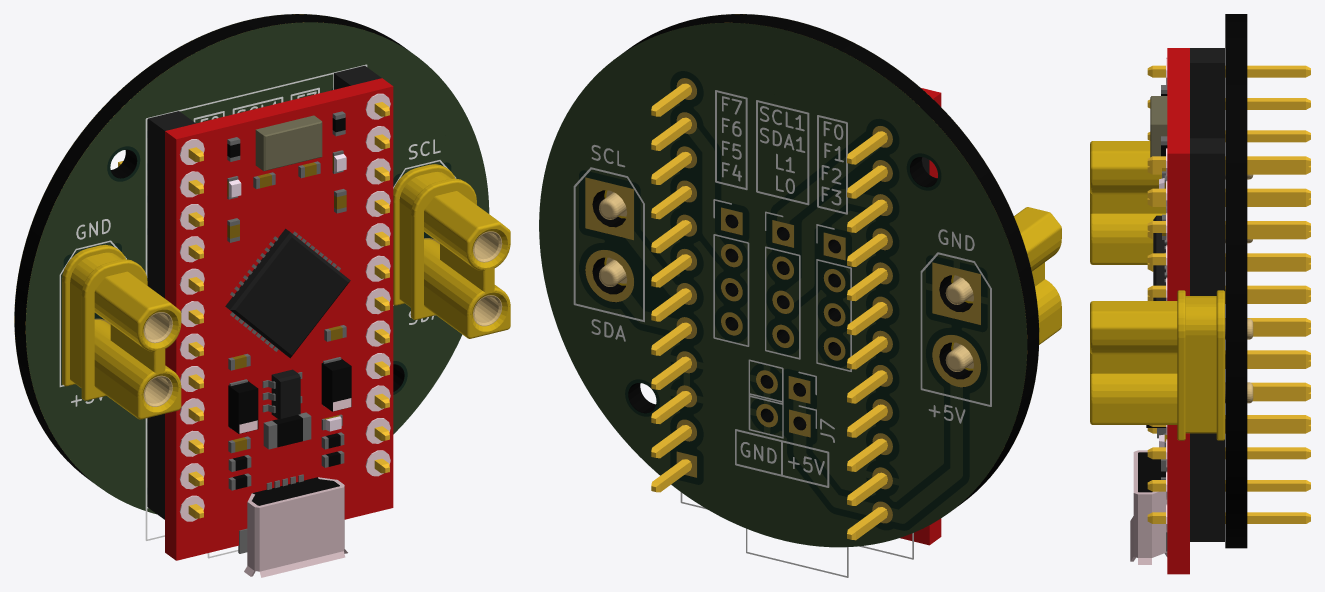
The model's file is Helios_PCB_Section.obj.
The picture shows the model from 3 angles, left to right: view 1: azimuth 30°, elevation 25°; view 2: azimuth 150°, elevation 25°; view 3: azimuth 270°, elevation 25°; orthographic projection. The views are drawn at different scales.
Visible parts, largest first — view 1: SHAPE_117_IndexedFaceSet, SHAPE_296_IndexedFaceSet, SHAPE_295_IndexedFaceSet, SHAPE_292_IndexedFaceSet, SHAPE_88_IndexedFaceSet, SHAPE_119_IndexedFaceSet, SHAPE_123_IndexedFaceSet, SHAPE_298_IndexedFaceSet, SHAPE_121_IndexedFaceSet, SHAPE_184_IndexedFaceSet, SHAPE_184_IndexedFaceSet.001, SHAPE_193_IndexedFaceSet.001 (+20 smaller); view 2: SHAPE_294_IndexedFaceSet, SHAPE_293_IndexedFaceSet, SHAPE_291_IndexedFaceSet, SHAPE_292_IndexedFaceSet, SHAPE_297_IndexedFaceSet, SHAPE_117_IndexedFaceSet, SHAPE_184_IndexedFaceSet; view 3: SHAPE_292_IndexedFaceSet, SHAPE_122_IndexedFaceSet, SHAPE_117_IndexedFaceSet, SHAPE_123_IndexedFaceSet, SHAPE_276_IndexedFaceSet.001, SHAPE_172_IndexedFaceSet.001, SHAPE_119_IndexedFaceSet, SHAPE_172_IndexedFaceSet, SHAPE_174_IndexedFaceSet.001, SHAPE_167_IndexedFaceSet.001, SHAPE_173_IndexedFaceSet.001, SHAPE_174_IndexedFaceSet (+45 smaller).
Boxes of the visible parts, <box> form: SHAPE_117_IndexedFaceSet: <box>165,78,393,560</box>; SHAPE_296_IndexedFaceSet: <box>25,22,489,514</box>; SHAPE_295_IndexedFaceSet: <box>25,22,488,513</box>; SHAPE_292_IndexedFaceSet: <box>14,14,408,482</box>; SHAPE_88_IndexedFaceSet: <box>225,228,350,358</box>; SHAPE_119_IndexedFaceSet: <box>244,477,347,577</box>; SHAPE_123_IndexedFaceSet: <box>147,111,195,519</box>; SHAPE_298_IndexedFaceSet: <box>59,64,456,558</box>; SHAPE_121_IndexedFaceSet: <box>255,115,322,171</box>; SHAPE_184_IndexedFaceSet: <box>95,340,152,396</box>; SHAPE_184_IndexedFaceSet.001: <box>424,260,481,315</box>; SHAPE_193_IndexedFaceSet.001: <box>416,183,475,318</box>; SHAPE_294_IndexedFaceSet: <box>539,22,1027,547</box>; SHAPE_293_IndexedFaceSet: <box>540,22,1027,546</box>; SHAPE_291_IndexedFaceSet: <box>579,22,1027,530</box>; SHAPE_292_IndexedFaceSet: <box>592,14,1038,508</box>; SHAPE_297_IndexedFaceSet: <box>573,90,991,487</box>; SHAPE_117_IndexedFaceSet: <box>900,88,941,545</box>; SHAPE_184_IndexedFaceSet: <box>1035,279,1061,322</box>; SHAPE_292_IndexedFaceSet: <box>1225,14,1247,548</box>; SHAPE_122_IndexedFaceSet: <box>1190,138,1224,541</box>; SHAPE_117_IndexedFaceSet: <box>1167,48,1189,574</box>; SHAPE_123_IndexedFaceSet: <box>1190,48,1224,138</box>; SHAPE_276_IndexedFaceSet.001: <box>1185,335,1216,431</box>; SHAPE_172_IndexedFaceSet.001: <box>1093,373,1177,403</box>; SHAPE_119_IndexedFaceSet: <box>1130,450,1167,564</box>; SHAPE_172_IndexedFaceSet: <box>1093,213,1165,243</box>; SHAPE_174_IndexedFaceSet.001: <box>1093,403,1177,422</box>; SHAPE_167_IndexedFaceSet.001: <box>1093,339,1177,354</box>; SHAPE_173_IndexedFaceSet.001: <box>1093,313,1177,326</box>; SHAPE_174_IndexedFaceSet: <box>1093,243,1153,262</box>.
Bounding box in the file's own units: 38 × 40.52 × 15.7.
